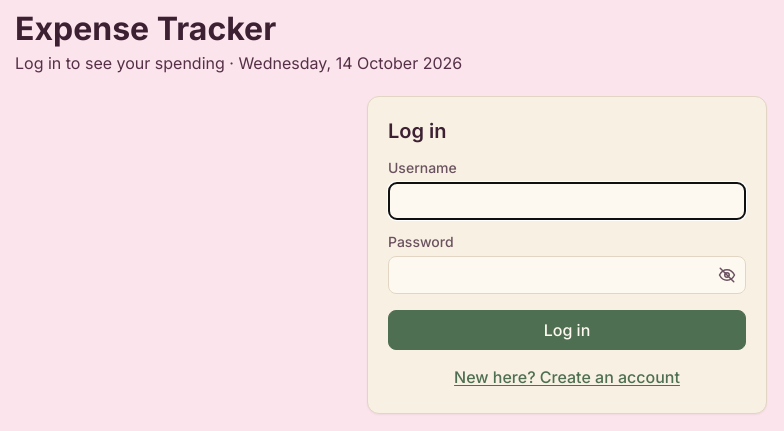
Scenario: clicking it shows the password, and clicking again hides it, keeping what was typed
This screenshot has width=784, height=431.
In the field labelled "Username": (567, 201) [388,182,746,220], type "alice"
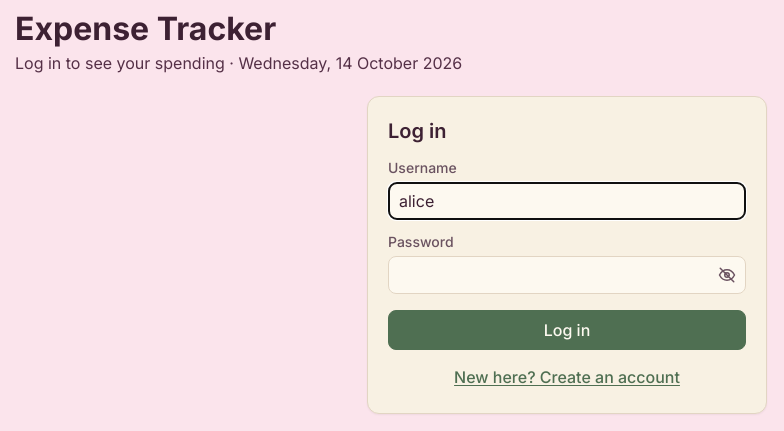
In the password field labelled "Password": (567, 275) [388,256,746,294], type "a good password"
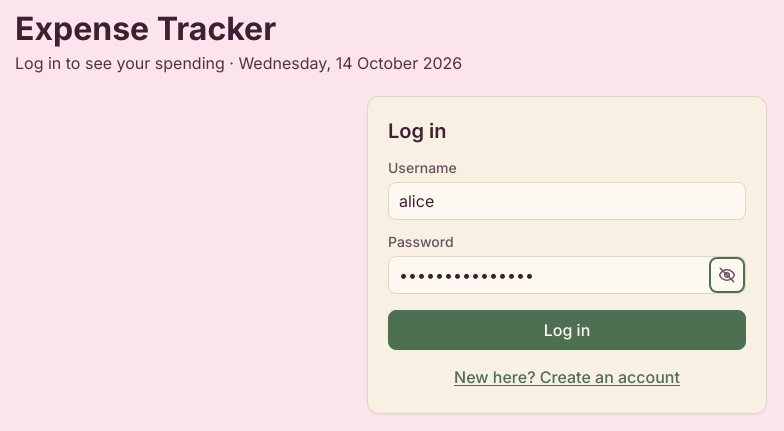
Click the button named "Show password": (727, 275) [711,259,743,291]
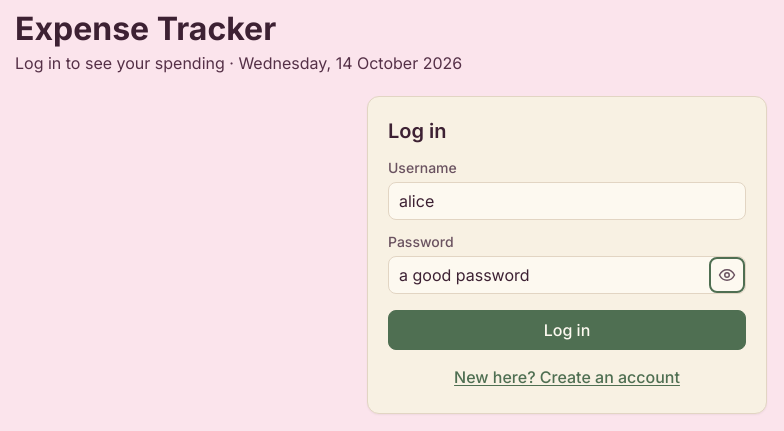
Result: the field labelled "Password" shows its text at [388,256,746,294]
Click the button named "Hide password": (727, 275) [711,259,743,291]
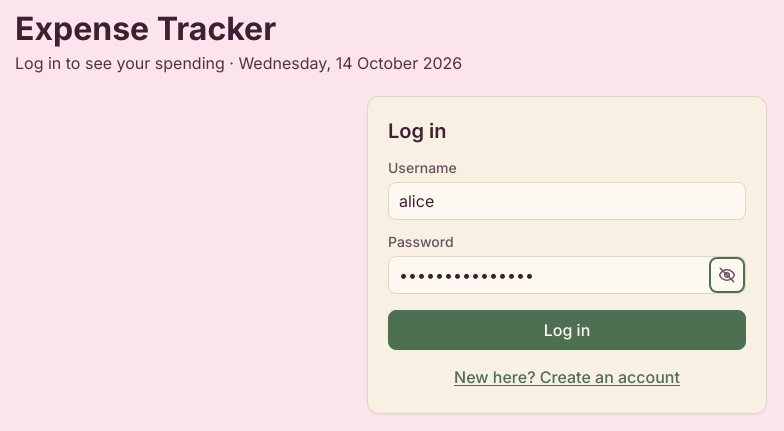
Result: the password field labelled "Password" hides its text at [388,256,746,294]
